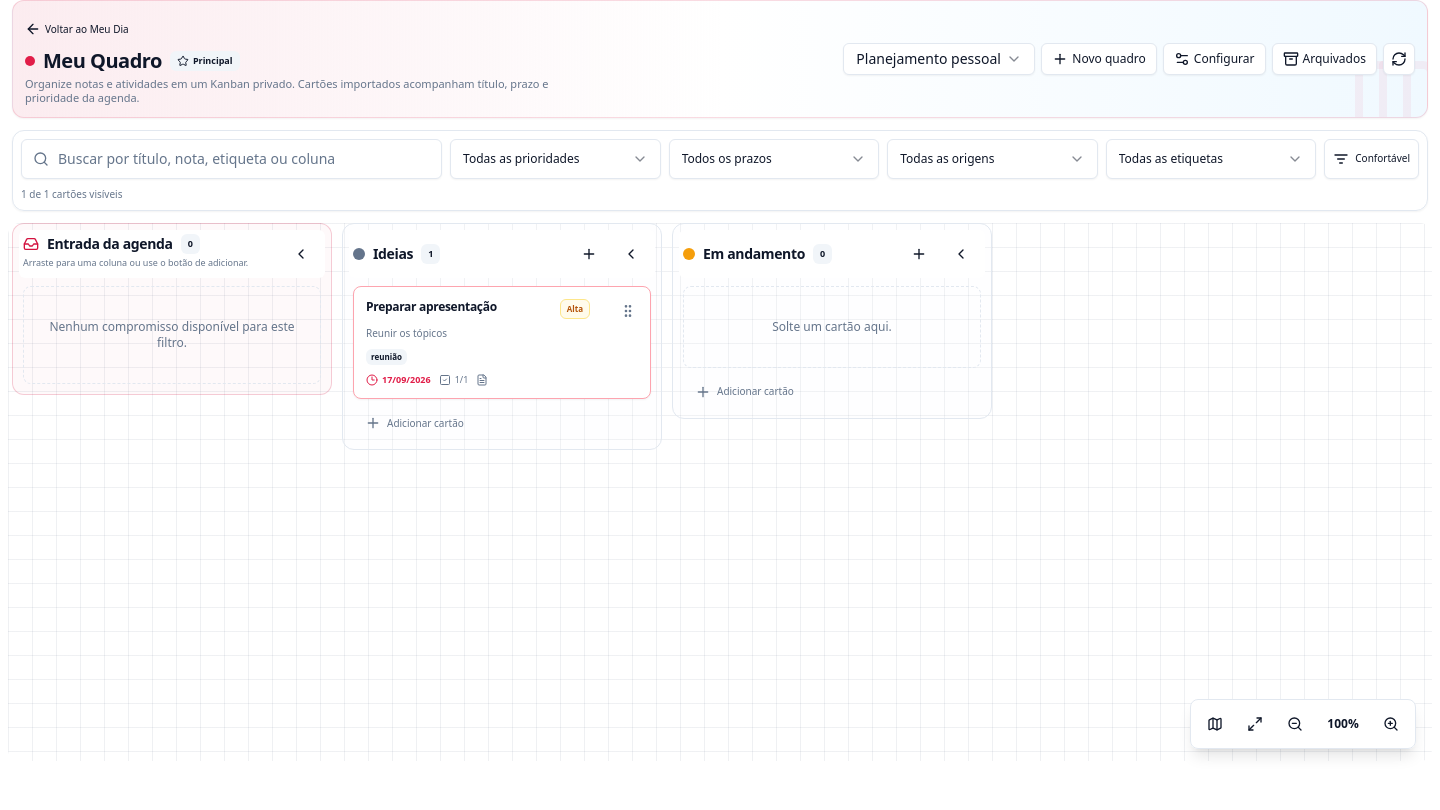
Test case: Meu Quadro › ajusta automaticamente o quadro à largura disponível
The image size is (1440, 810).
Step 1. Click the button named "Ajustar quadro à tela" → (1255, 724), box [1235, 704, 1275, 744]
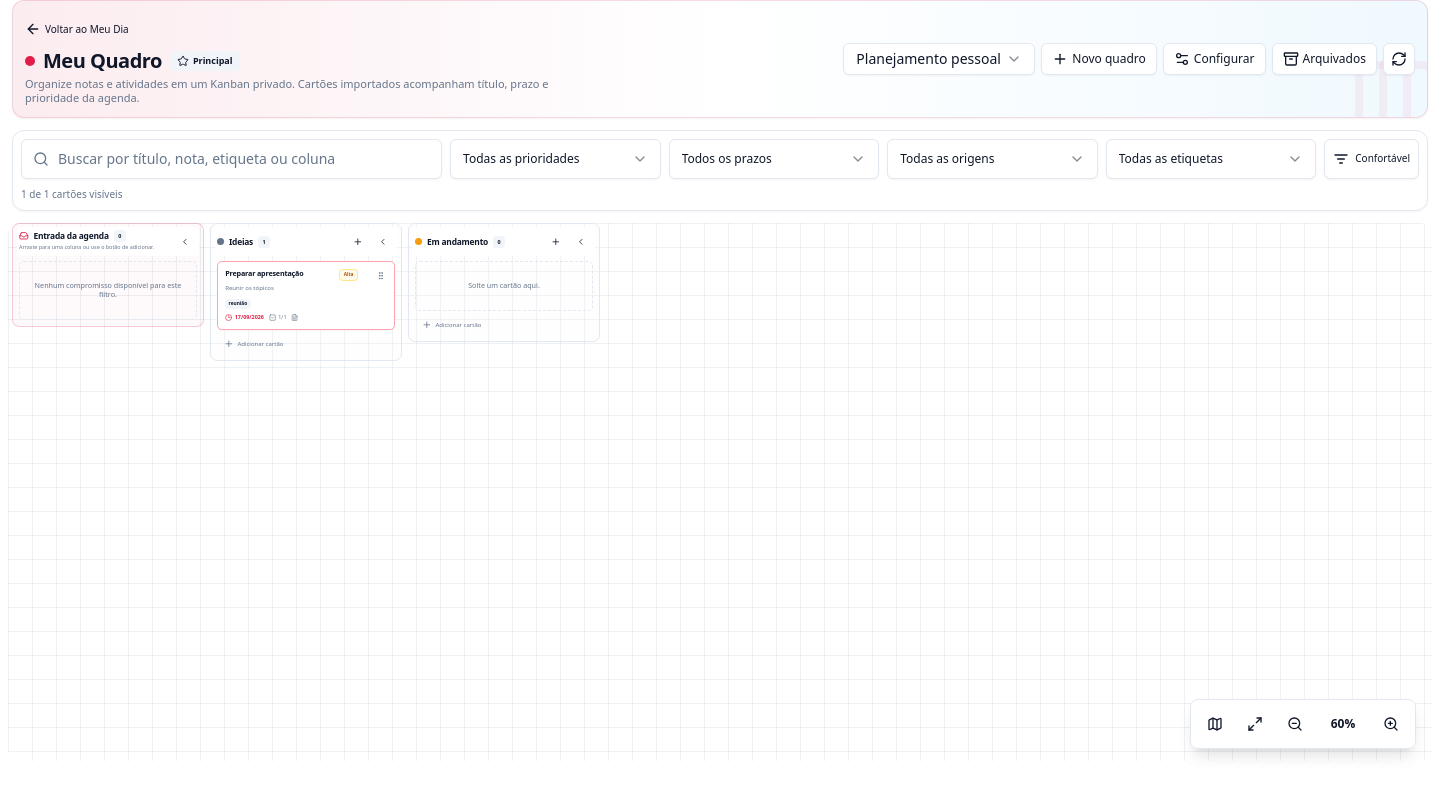
Check: the text "60%" is shown, box [1331, 716, 1355, 732]
